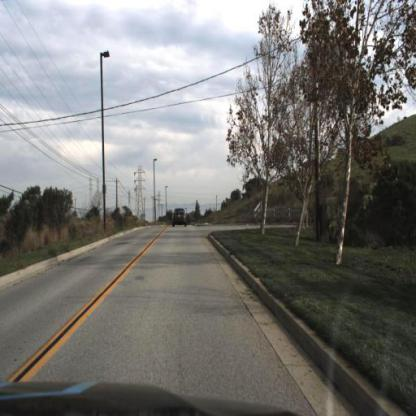car: (173, 205, 188, 232)
